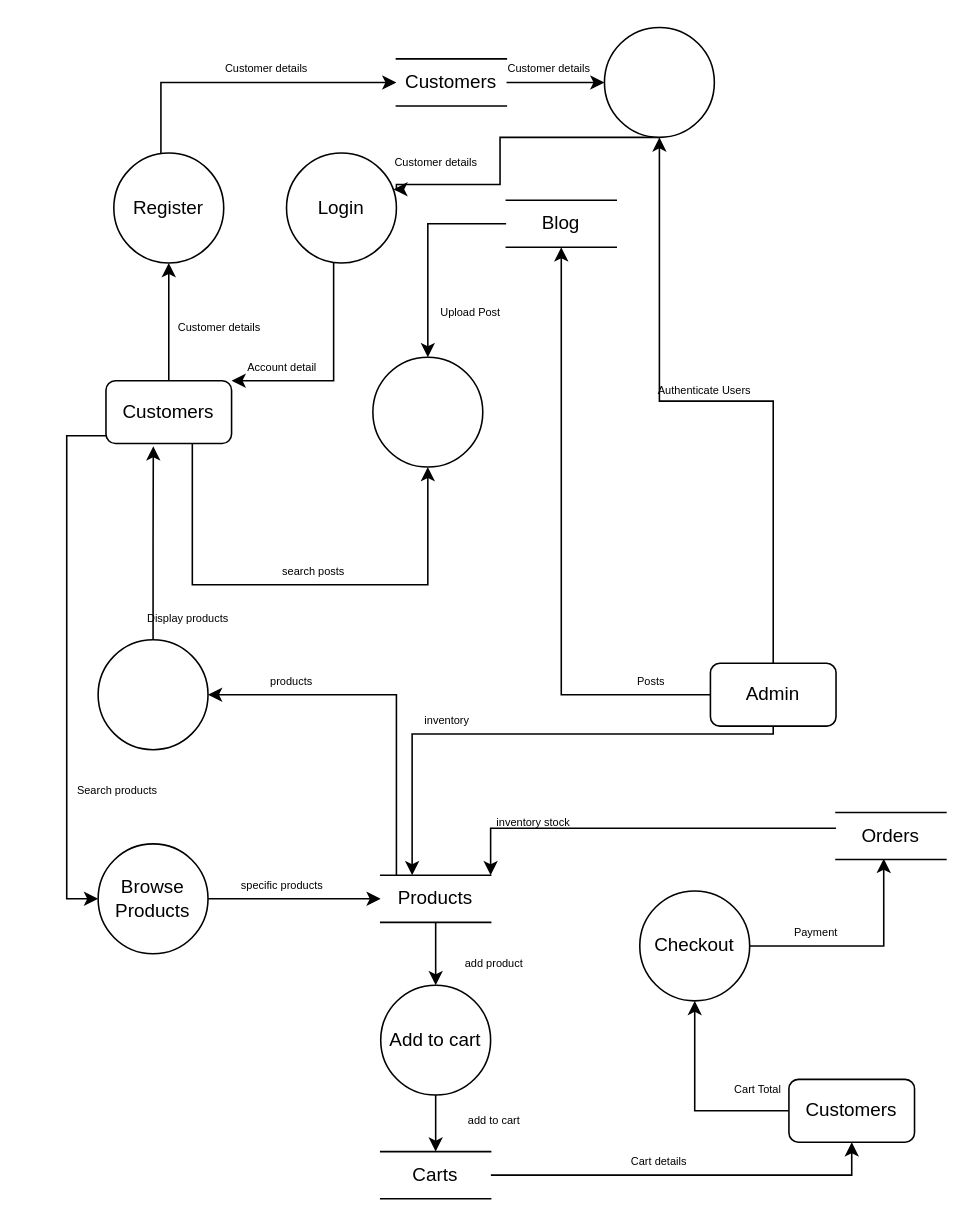
The diagram is 973 pixels wide and 1226 high, and some of its shapes have lost their labels. Here are the shapes that lost their labels. From the top down, the box of each, then its label:
(603, 26, 714, 137): Authenticate Details
(371, 356, 483, 467): View Blog Posts
(97, 638, 208, 750): View Products
